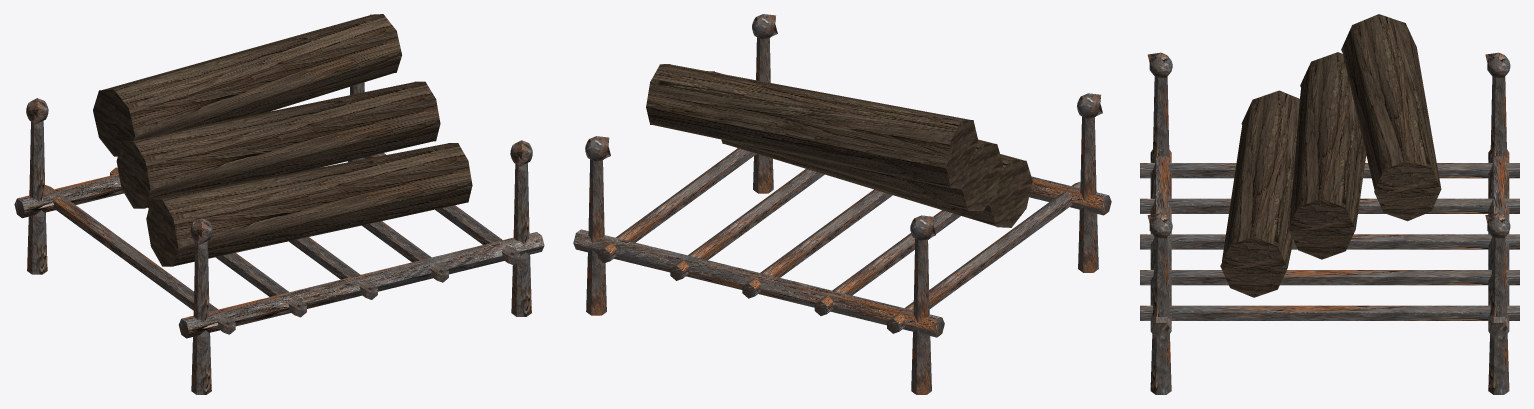
Rendered from fireplace-grate-v01-photo.glb.
The picture shows the model from 3 angles, left to right: view 1: azimuth 30°, elevation 25°; view 2: azimuth 150°, elevation 25°; view 3: azimuth 270°, elevation 25°; orthographic projection. The views are drawn at different scales.
Parts seen in each view (by area): view 1: fireplace-grate; view 2: fireplace-grate; view 3: fireplace-grate.
Boxes of the visible parts, x1,y1,x2,y2 form: fireplace-grate: (14, 14, 544, 394); fireplace-grate: (573, 14, 1111, 394); fireplace-grate: (1140, 14, 1519, 394).
Bounding box in the file's own units: 1 × 0.59 × 0.9.
2 materials, 2 textured.
